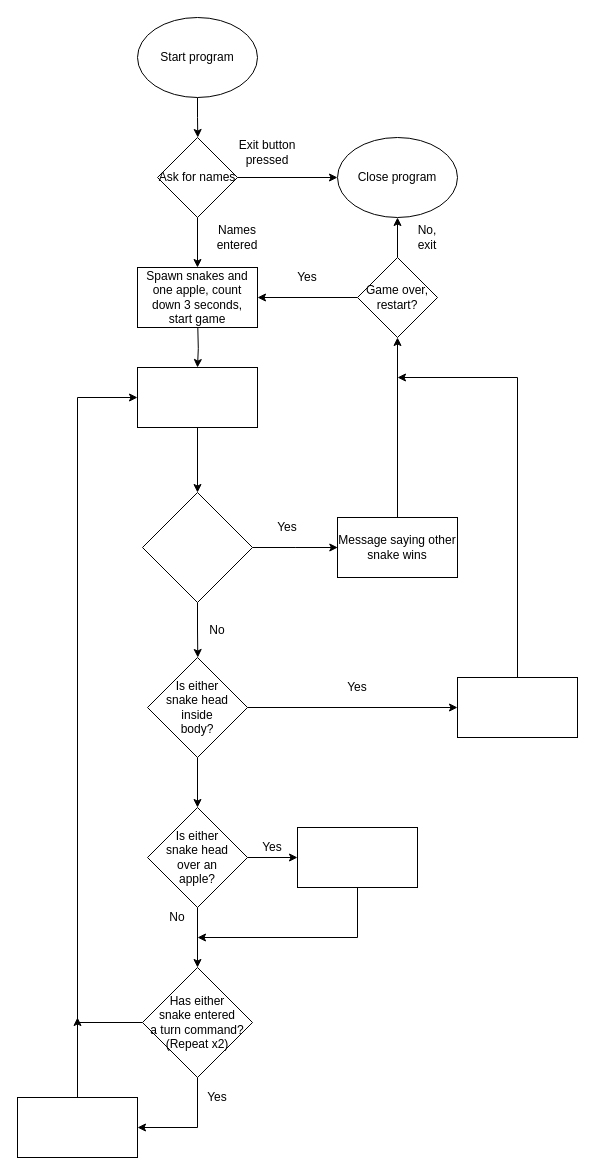
Some shapes in this 595 by 1175 pixel diagram are drawn without their labels. Each missing label, with the centre of its shape:
"Each snake moves one block forward" goes at pixel 197 397.
"Extend that snake by one" goes at pixel 357 857.
"Is either snake head out of bounds?" goes at pixel 197 547.
"Message saying both players lose" goes at pixel 517 707.
"Turn that snake in the direction player entered (repeat if both players turned)" goes at pixel 77 1127.
